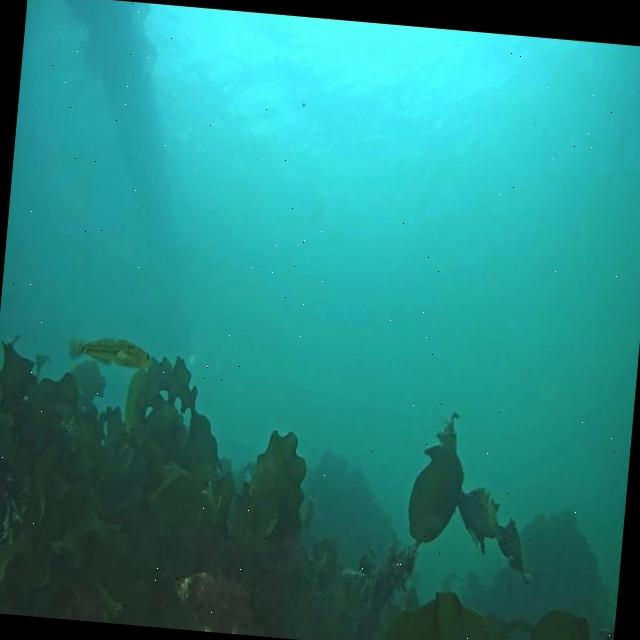fish: (68, 334, 154, 370)
